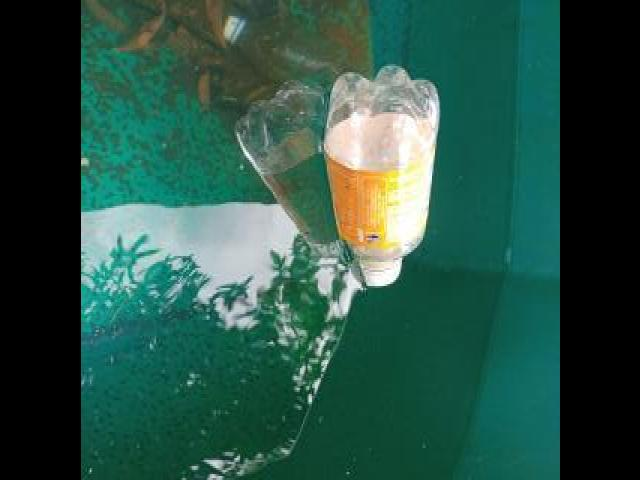Bottle: (318, 56, 446, 294)
